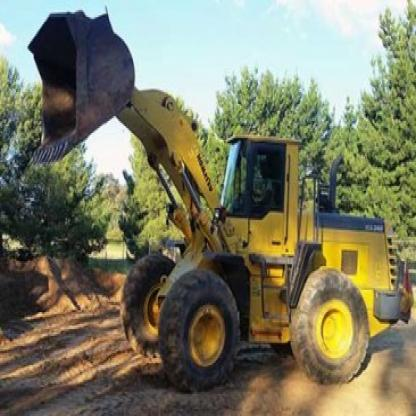bull_dozer/loader/grader: (22, 0, 412, 396)
